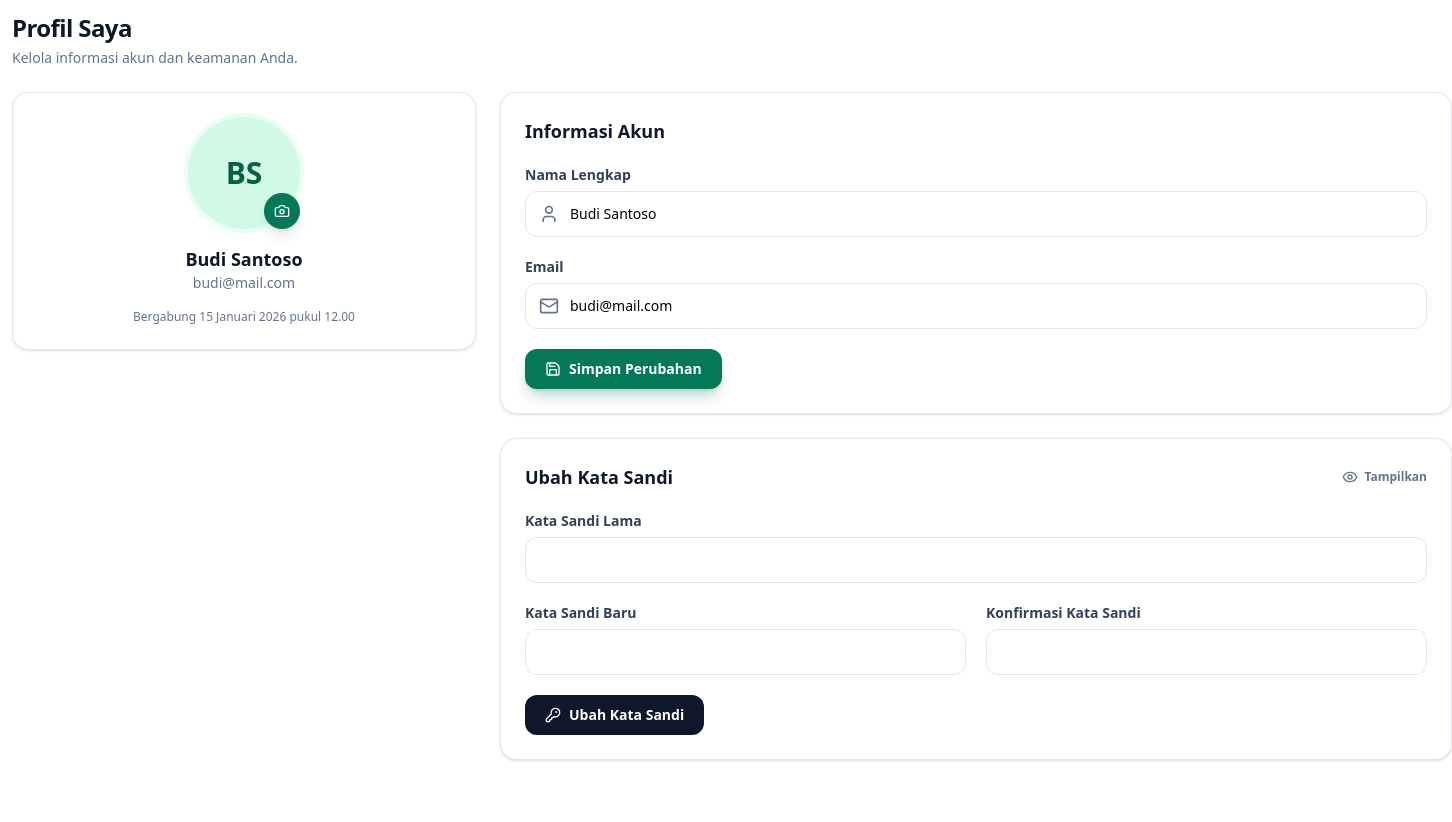
Test: formulir informasi akun › menampilkan pesan wajib diisi bila nama dan email kosong
This screenshot has width=1452, height=822.
Clear the field with id "name": (976, 214) [525, 191, 1427, 237]
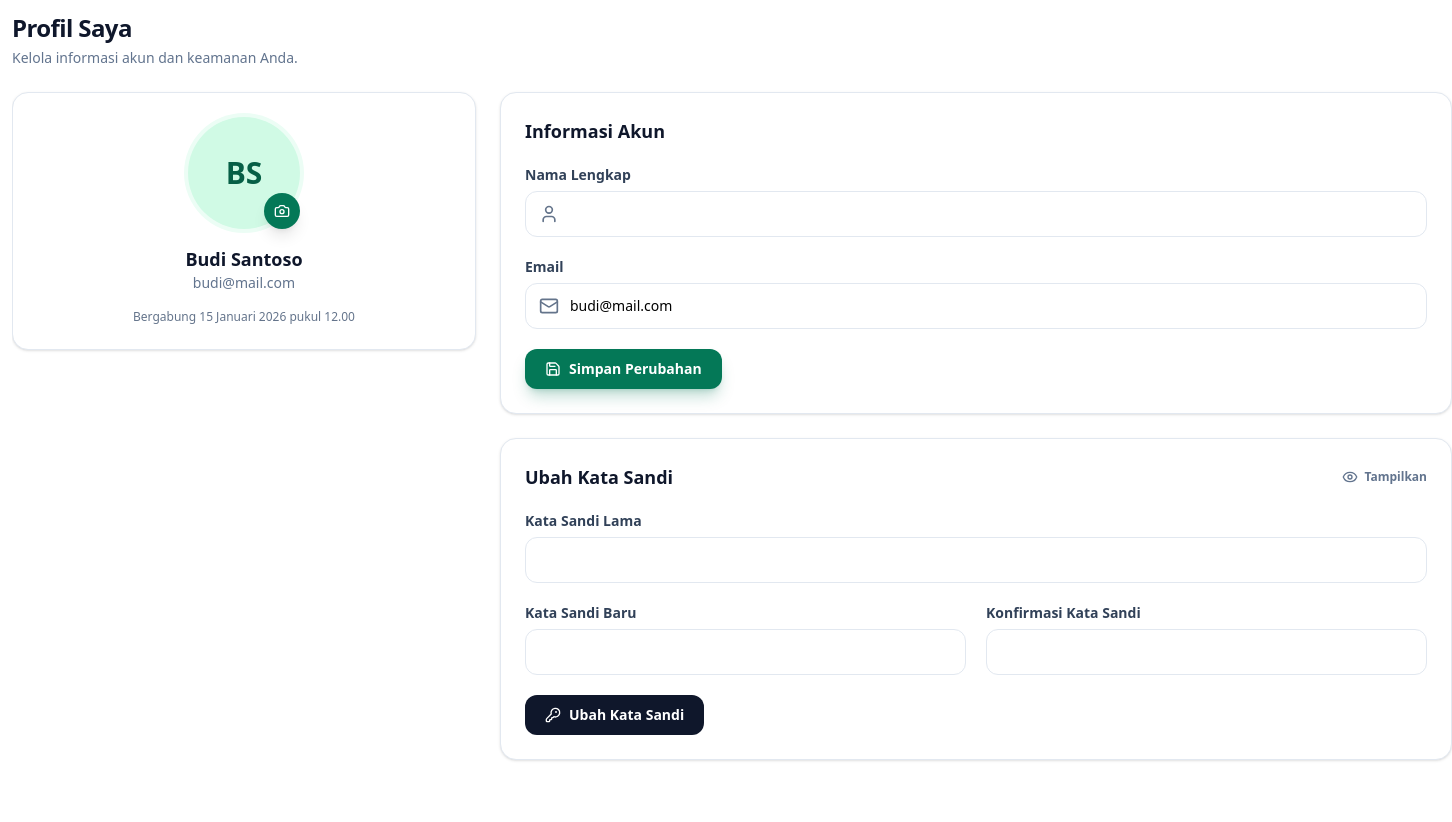
Clear the field with id "email": (976, 306) [525, 283, 1427, 329]
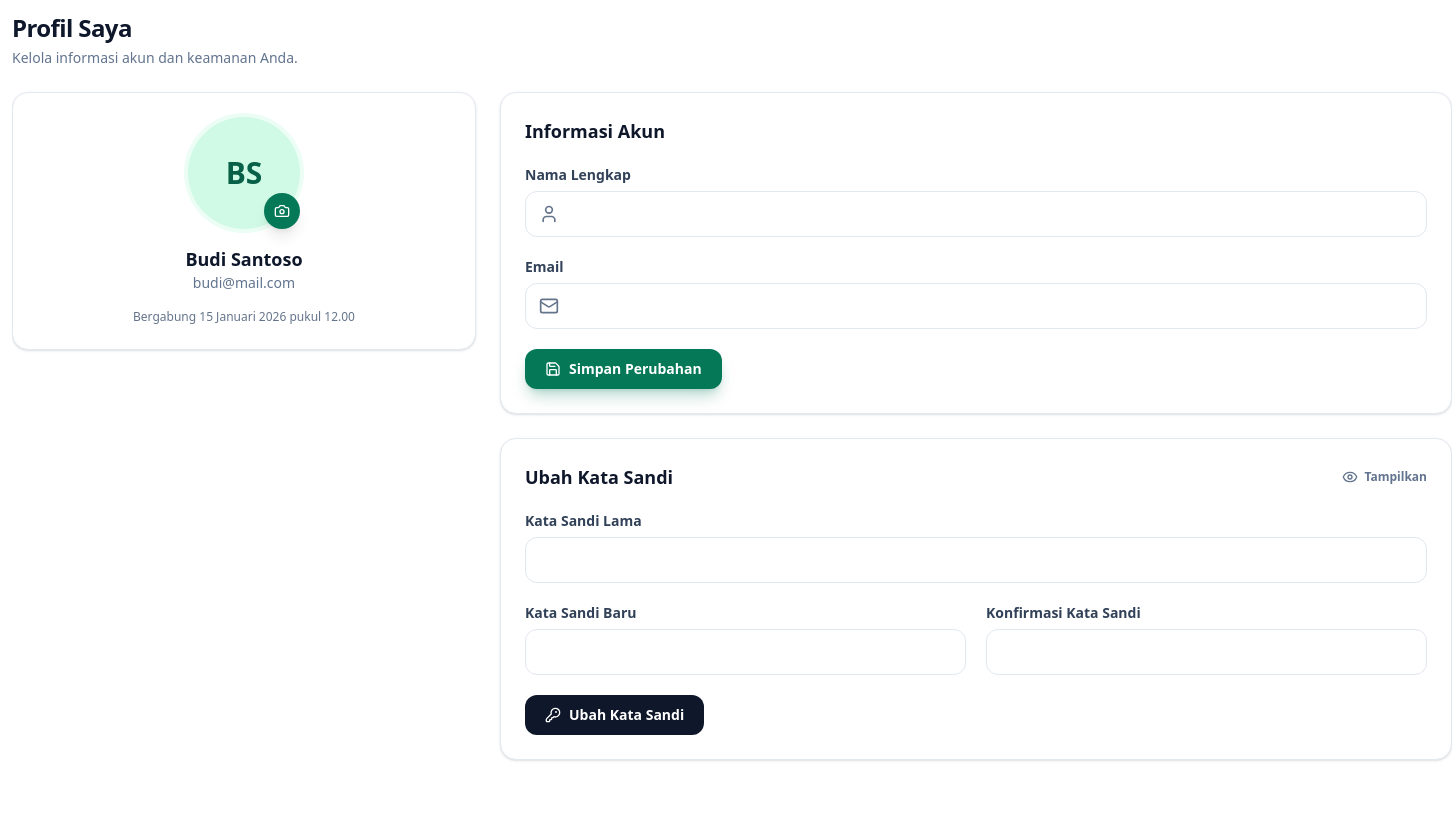
Submit the form "Informasi Akun Nama Lengkap Email Simpan Perubahan", box [500, 92, 1451, 414]
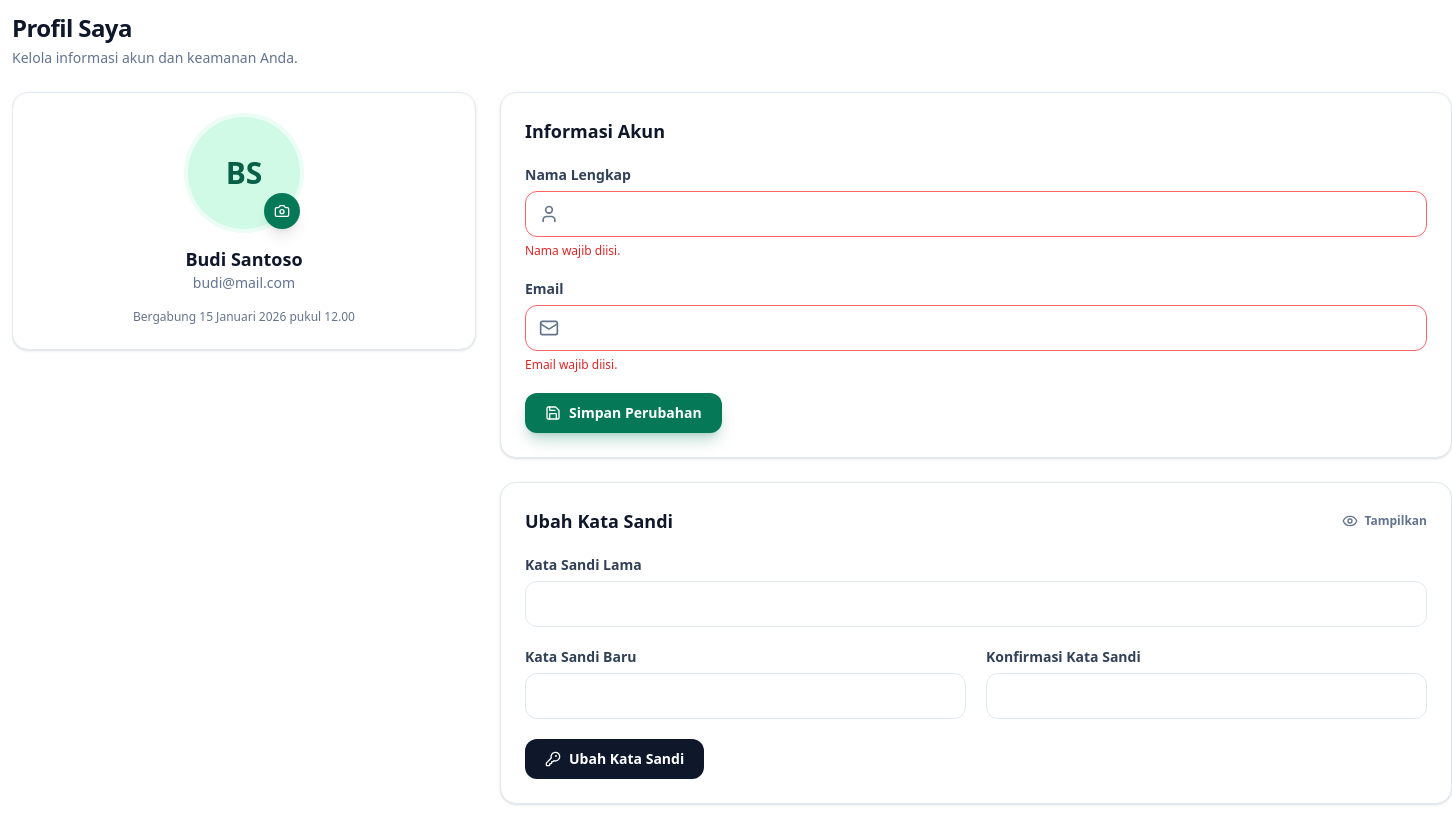
Check: the text "Nama wajib diisi." is shown, box [525, 242, 620, 259]
Check: the text "Email wajib diisi." is shown, box [525, 356, 617, 373]
